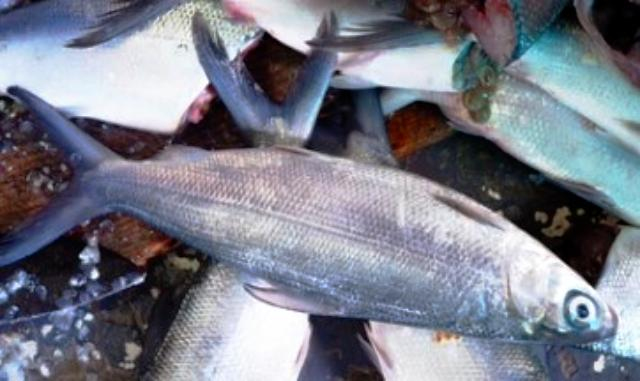Healthy Fish: (0, 88, 621, 350)
